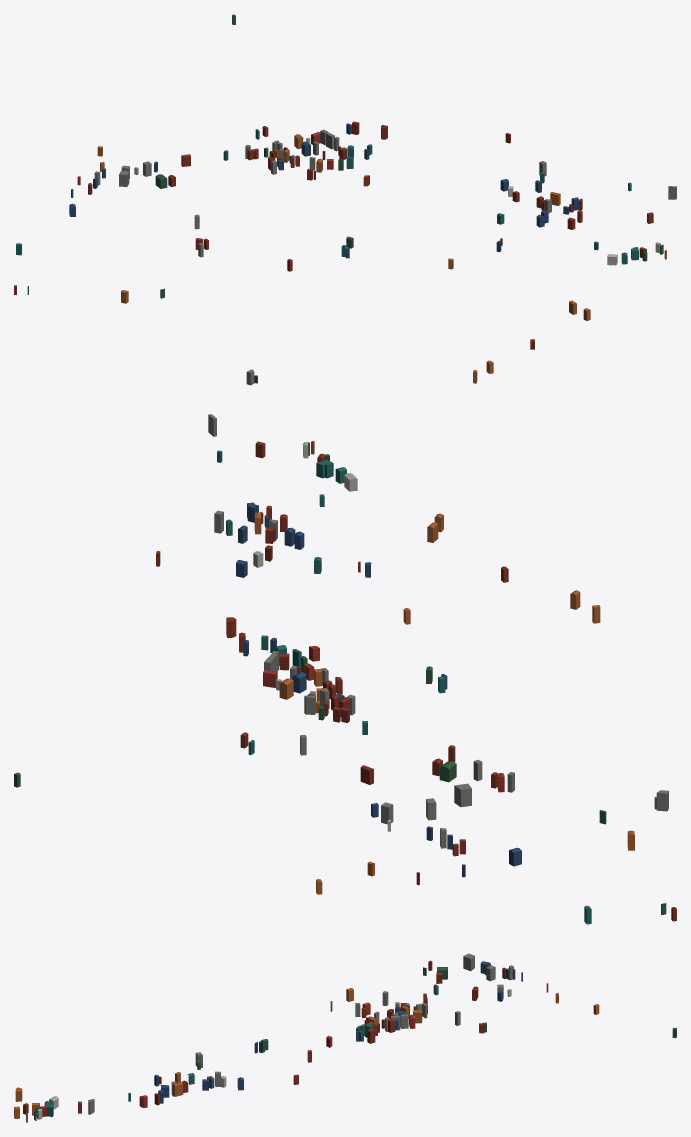
Rendered from near-15-27352-14871.904ba6da.glb.
The picture shows the model from 3 angles, top to bottom: view 1: azimuth 30°, elevation 25°; view 2: azimuth 150°, elevation 25°; view 3: azimuth 270°, elevation 25°; orthographic projection. The views are drawn at different scales.
Size of the model in its own units: 1003 by 284 by 1146.
